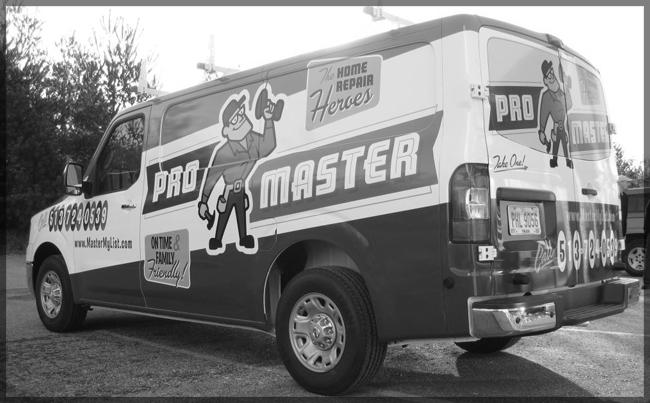car: (22, 10, 647, 400)
